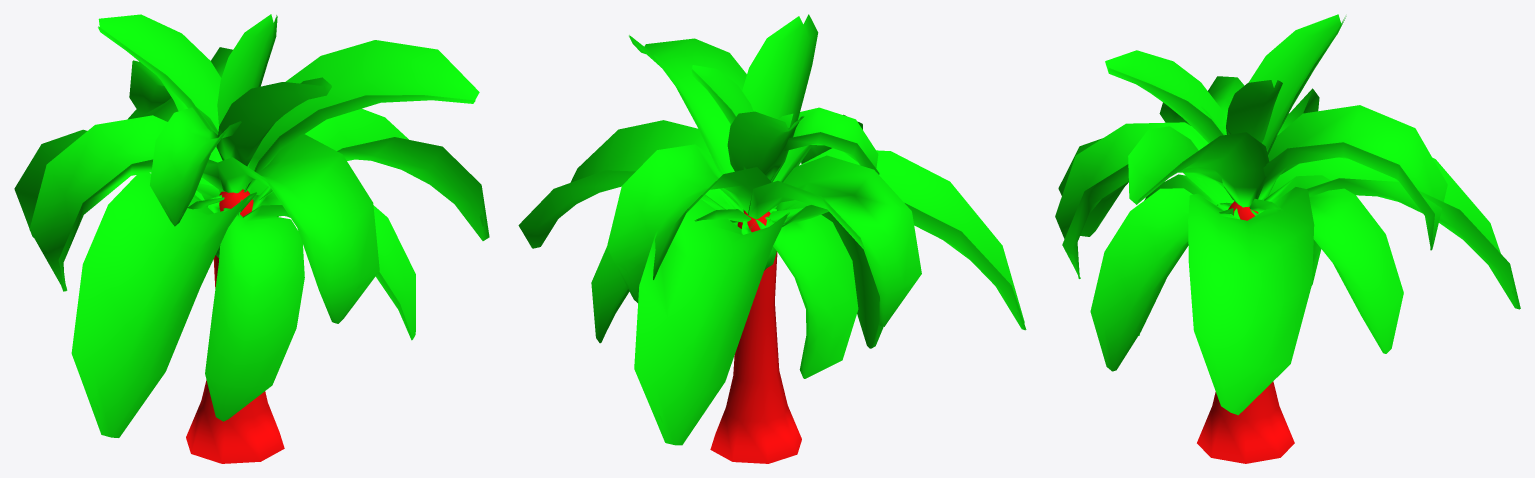
File: Plam02_Medium_OneMesh_2018.FBX
3 renders of one model, left to right at view 1: azimuth 30°, elevation 25°; view 2: azimuth 150°, elevation 25°; view 3: azimuth 270°, elevation 25°, orthographic. The views are drawn at different scales.
Parts seen in each view (by area): view 1: Palm02Medium_LOD0; view 2: Palm02Medium_LOD0; view 3: Palm02Medium_LOD0.
Part boxes in pixels (x1,y1,x2,y2): Palm02Medium_LOD0: [14, 14, 489, 463]; Palm02Medium_LOD0: [518, 14, 1026, 463]; Palm02Medium_LOD0: [1055, 14, 1520, 463].
Size of what is drawn, in the model's own units: 25.13 by 20.98 by 22.72.
